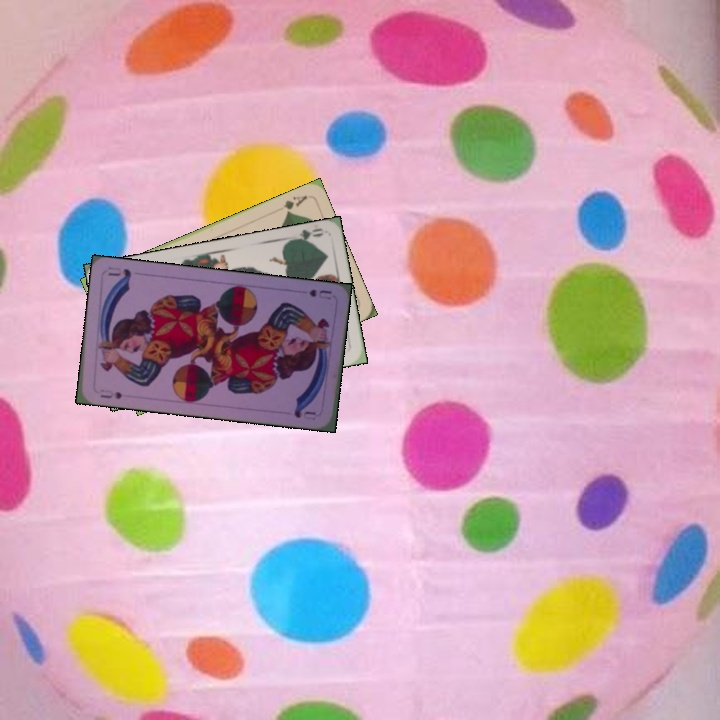GA: (279, 191, 310, 216)
GO: (286, 224, 326, 246)
SU: (305, 285, 334, 302), (96, 385, 125, 402)
